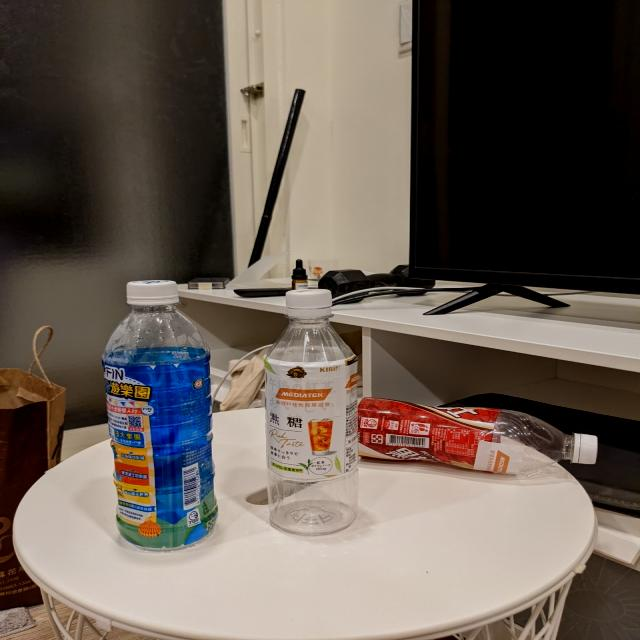bottle: (96, 270, 235, 551), (258, 279, 369, 548), (343, 406, 620, 476)
